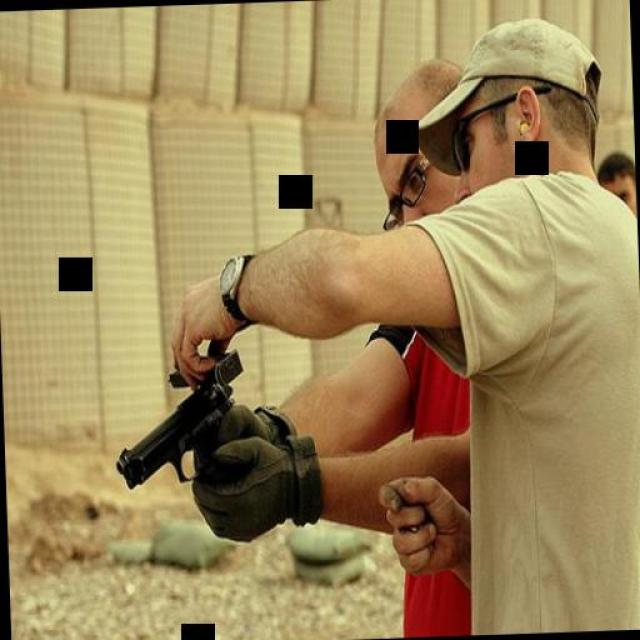gun: (113, 365, 235, 505)
